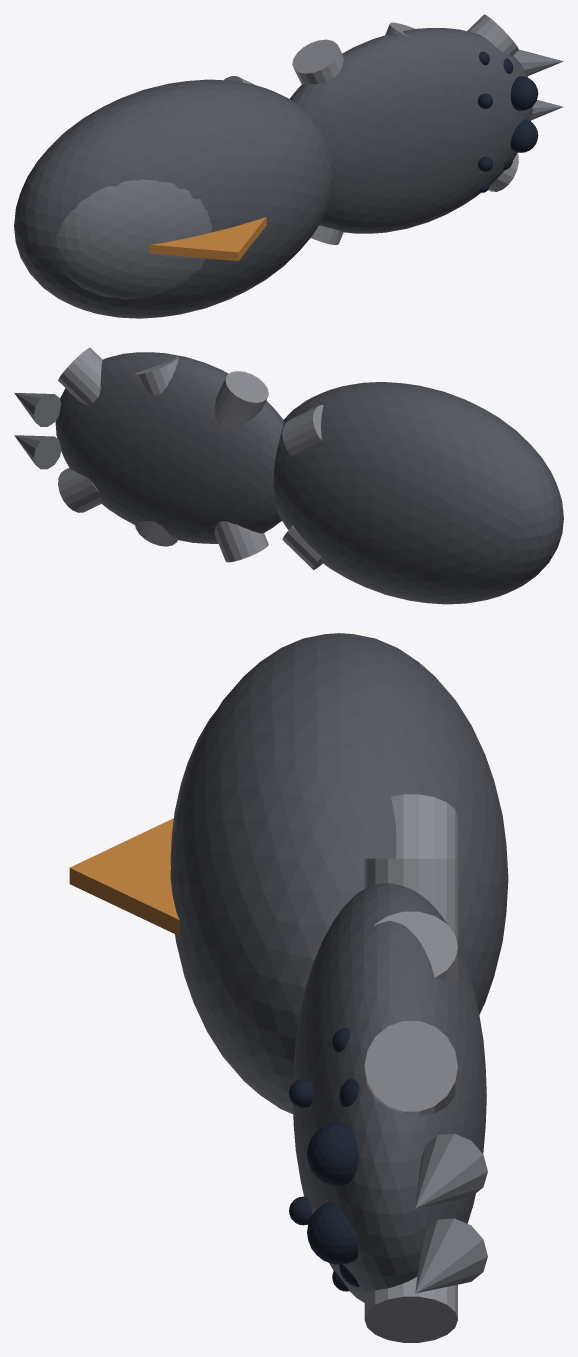
File: spider_body.glb
The picture shows the model from 3 angles, top to bottom: view 1: azimuth 30°, elevation 25°; view 2: azimuth 150°, elevation 25°; view 3: azimuth 270°, elevation 25°; orthographic projection. The views are drawn at different scales.
Parts seen in each view (by area): view 1: geometry_0; view 2: geometry_0; view 3: geometry_0.
Part boxes in pixels (x1,y1,x2,y2): geometry_0: (14,14,563,318); geometry_0: (14,347,563,604); geometry_0: (69,633,508,1342).
Size of the model in its own units: 0.337 by 0.124 by 0.122.
